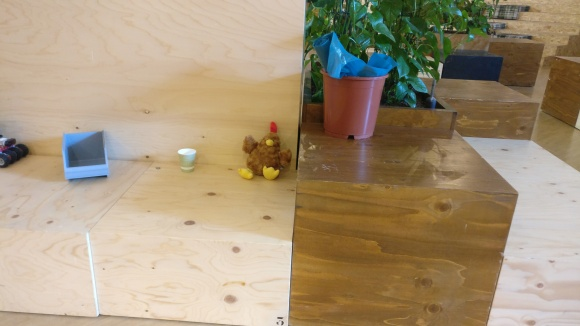cup: (177, 147, 197, 172)
tray: (60, 129, 110, 182)
